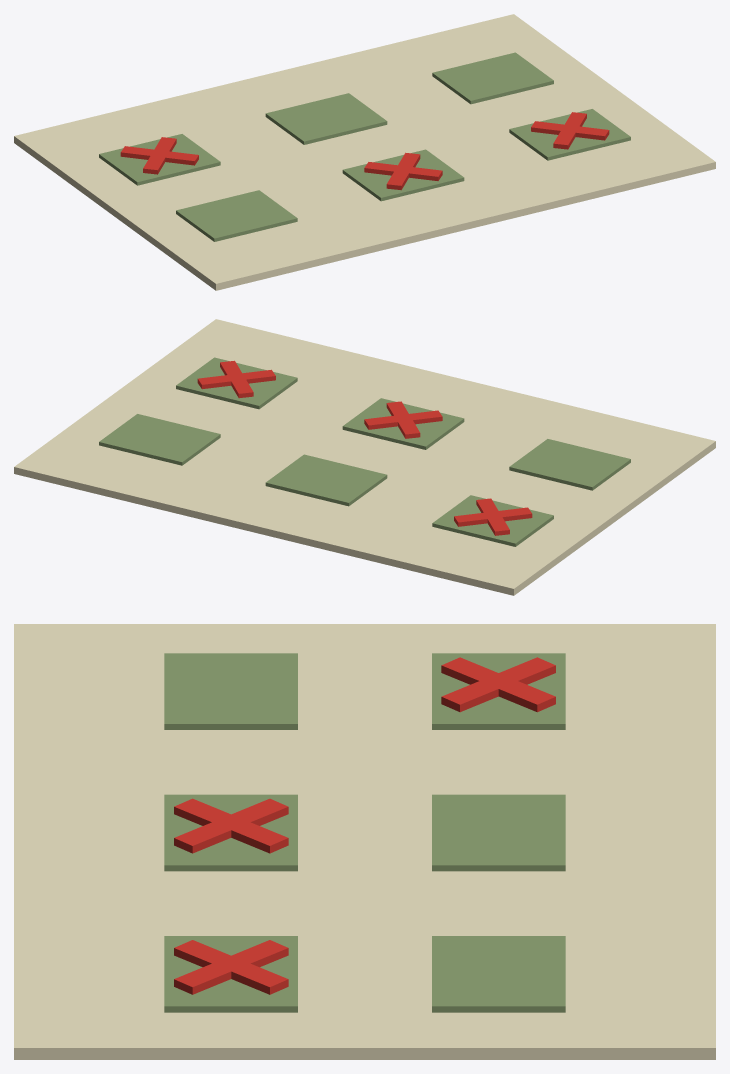
The model's file is robbed_houses_map.glb.
3 renders of one model, top to bottom at view 1: azimuth 30°, elevation 25°; view 2: azimuth 150°, elevation 25°; view 3: azimuth 270°, elevation 25°, orthographic. The views are drawn at different scales.
Visible parts, largest first — view 1: sheet_map_paper, block_map_block (×6), cross_map_cross (×6); view 2: sheet_map_paper, block_map_block (×6), cross_map_cross (×6); view 3: sheet_map_paper, block_map_block (×6), cross_map_cross (×6).
Boxes of the visible parts, left/top/right/bottom form: sheet_map_paper: left=14, top=14, right=715, bottom=290; block_map_block (×6): left=99, top=52, right=630, bottom=241; cross_map_cross (×6): left=120, top=112, right=609, bottom=190; sheet_map_paper: left=14, top=319, right=715, bottom=595; block_map_block (×6): left=99, top=357, right=630, bottom=546; cross_map_cross (×6): left=197, top=360, right=532, bottom=535; sheet_map_paper: left=14, top=624, right=715, bottom=1059; block_map_block (×6): left=164, top=653, right=565, bottom=1012; cross_map_cross (×6): left=174, top=657, right=555, bottom=994.
Bounding box in the file's own units: 0.3 × 0.0085 × 0.21.
